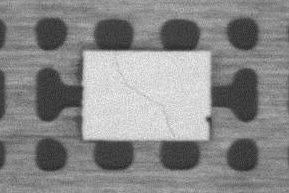DIE_INK: (204, 112, 212, 124)
